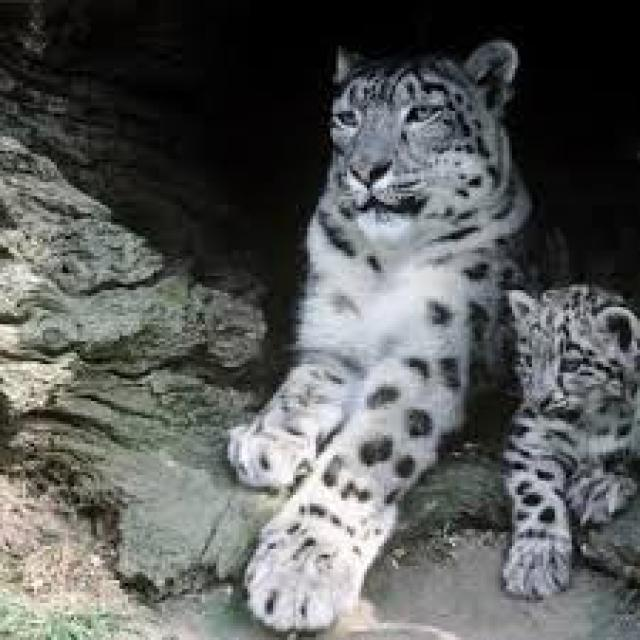Jaguar: (225, 37, 540, 634), (503, 285, 640, 600)
